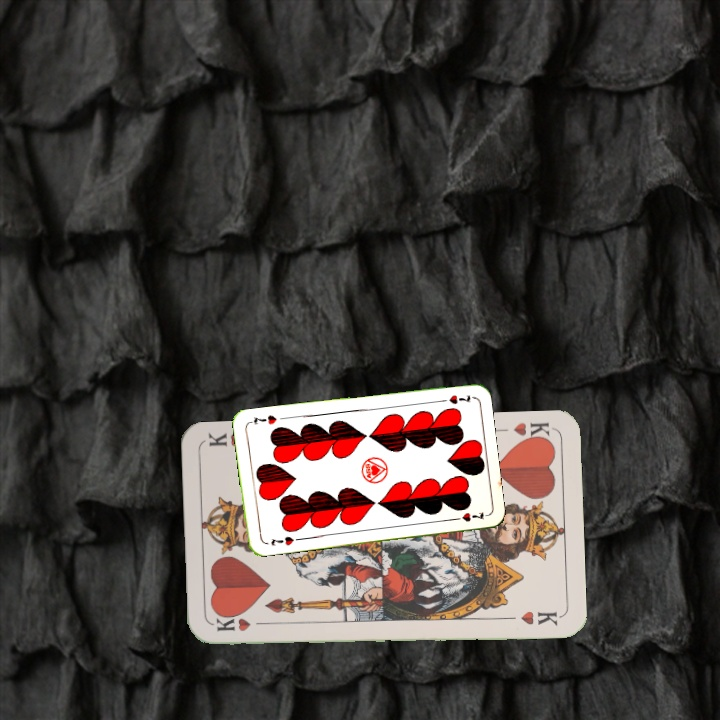H7: (434, 391, 475, 407), (267, 532, 296, 548)
HK: (509, 418, 554, 445), (211, 614, 271, 634)
